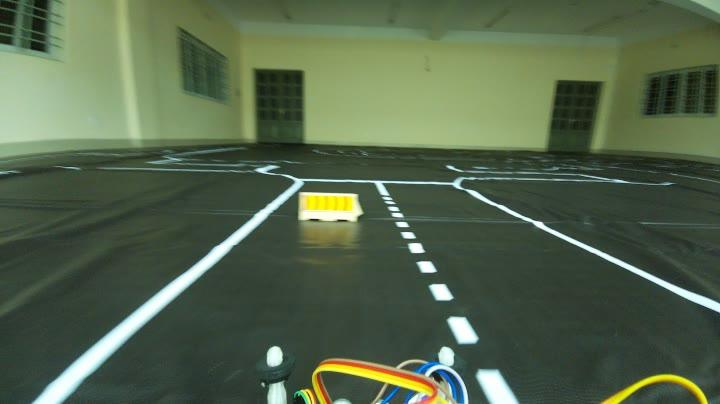roadblock: (292, 188, 368, 225)
